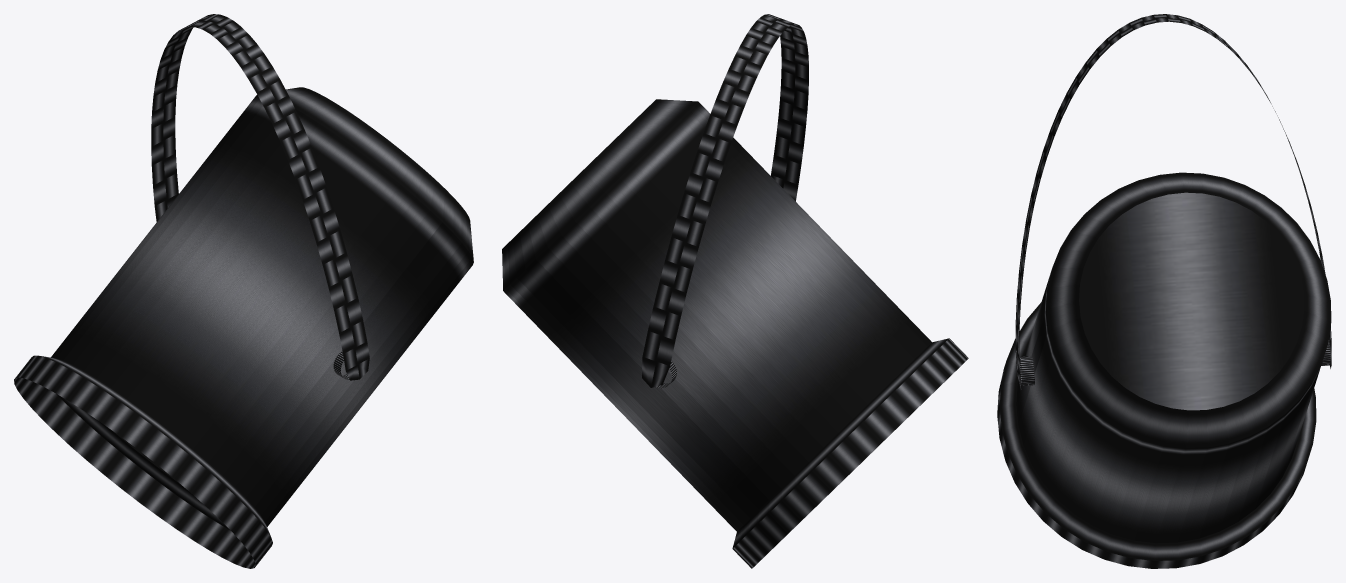
Rendered from stage_light_2.obj.
3 views of the same model, side by side, from view 1: azimuth 30°, elevation 25°; view 2: azimuth 150°, elevation 25°; view 3: azimuth 270°, elevation 25° (orthographic). The views are drawn at different scales.
Visible parts, largest first — view 1: Cylinder_002_Cylinder_011; view 2: Cylinder_002_Cylinder_011; view 3: Cylinder_002_Cylinder_011.
Boxes of the visible parts, x1,y1,x2,y2 form: Cylinder_002_Cylinder_011: [14, 14, 473, 568]; Cylinder_002_Cylinder_011: [502, 14, 968, 568]; Cylinder_002_Cylinder_011: [997, 14, 1331, 568].
Size of the model in its own units: 1.16 by 1.42 by 0.7756.
